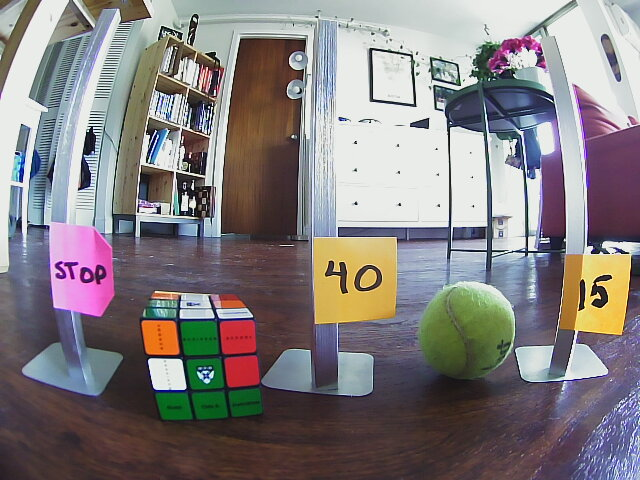15: (566, 259, 625, 332)
40: (314, 240, 393, 320)
ball: (422, 283, 517, 379)
cube: (138, 291, 263, 417)
stop: (53, 236, 109, 311)
